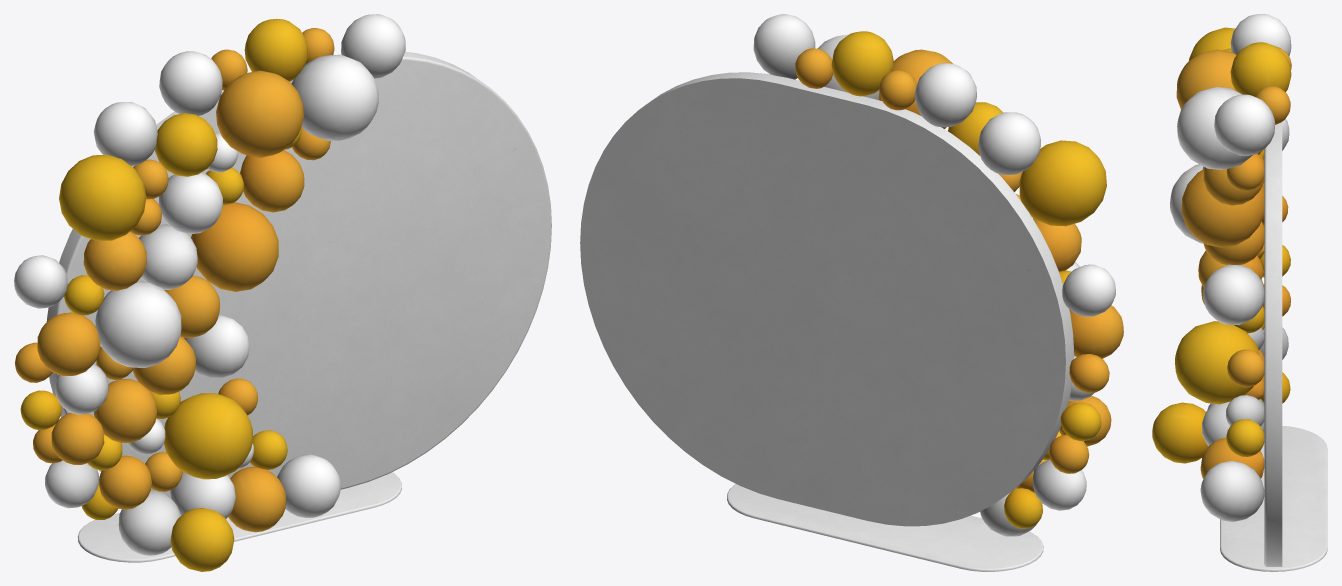
The model's file is PartyBalloons03_GR6_2.FBX.
3 renders of one model, left to right at view 1: azimuth 30°, elevation 25°; view 2: azimuth 150°, elevation 25°; view 3: azimuth 270°, elevation 25°, orthographic. The views are drawn at different scales.
Parts seen in each view (by area): view 1: PartyBalloons03_GR6_2; view 2: PartyBalloons03_GR6_2; view 3: PartyBalloons03_GR6_2.
Part boxes in pixels (x1,y1,x2,y2): PartyBalloons03_GR6_2: (14, 14, 551, 571); PartyBalloons03_GR6_2: (580, 14, 1123, 571); PartyBalloons03_GR6_2: (1152, 14, 1327, 571).
Size of what is drawn, in the model's own units: 3.29 by 2.87 by 0.9765.
